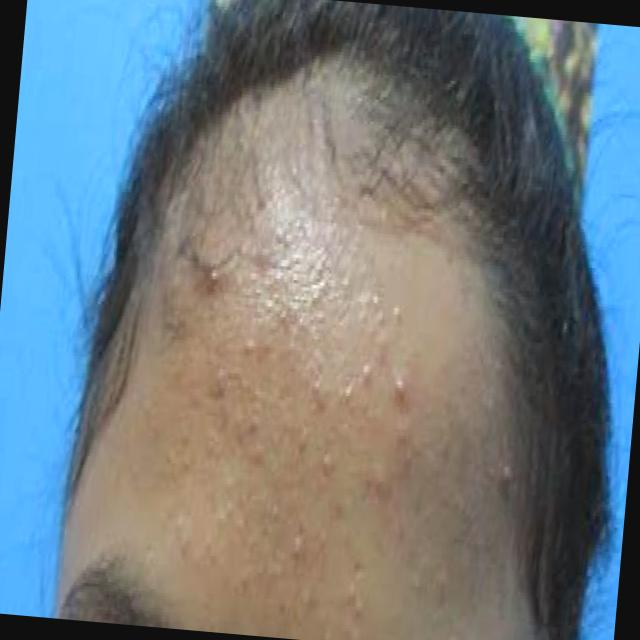fungal: (166, 242, 465, 640)
